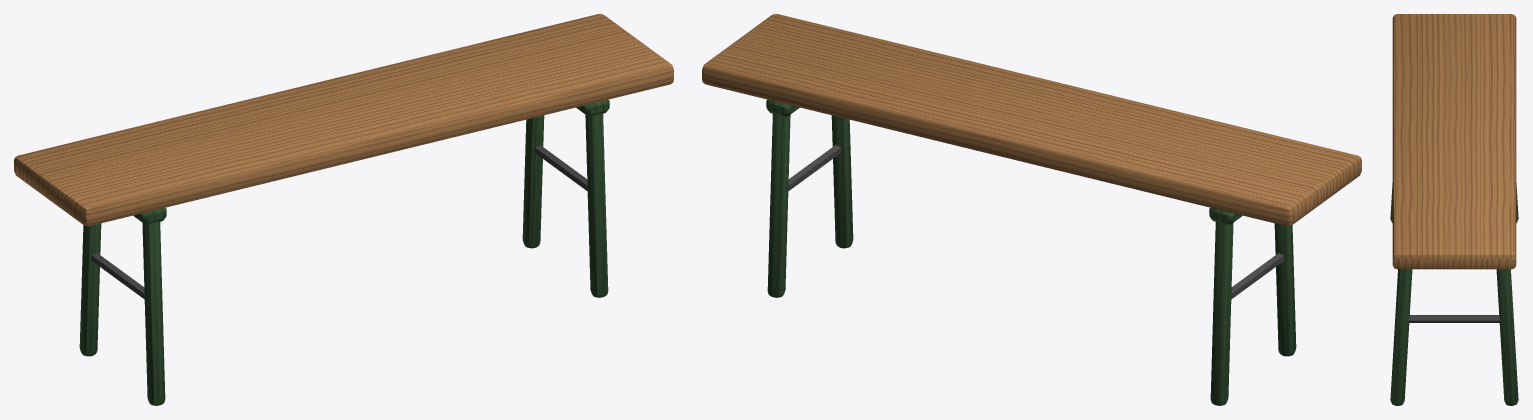
Rendered from tavern-bierbank.glb.
The picture shows the model from 3 angles, left to right: view 1: azimuth 30°, elevation 25°; view 2: azimuth 150°, elevation 25°; view 3: azimuth 270°, elevation 25°; orthographic projection. The views are drawn at different scales.
Parts seen in each view (by area): view 1: tavern_bierbank; view 2: tavern_bierbank; view 3: tavern_bierbank.
Boxes of the visible parts, box(x1,y1,x2,y2) form: tavern_bierbank: box(14, 14, 673, 405); tavern_bierbank: box(702, 14, 1361, 405); tavern_bierbank: box(1390, 14, 1518, 405).
Bounding box in the file's own units: 1.2 × 0.4202 × 0.2687.
Materials: 3 (2 with a texture image).
